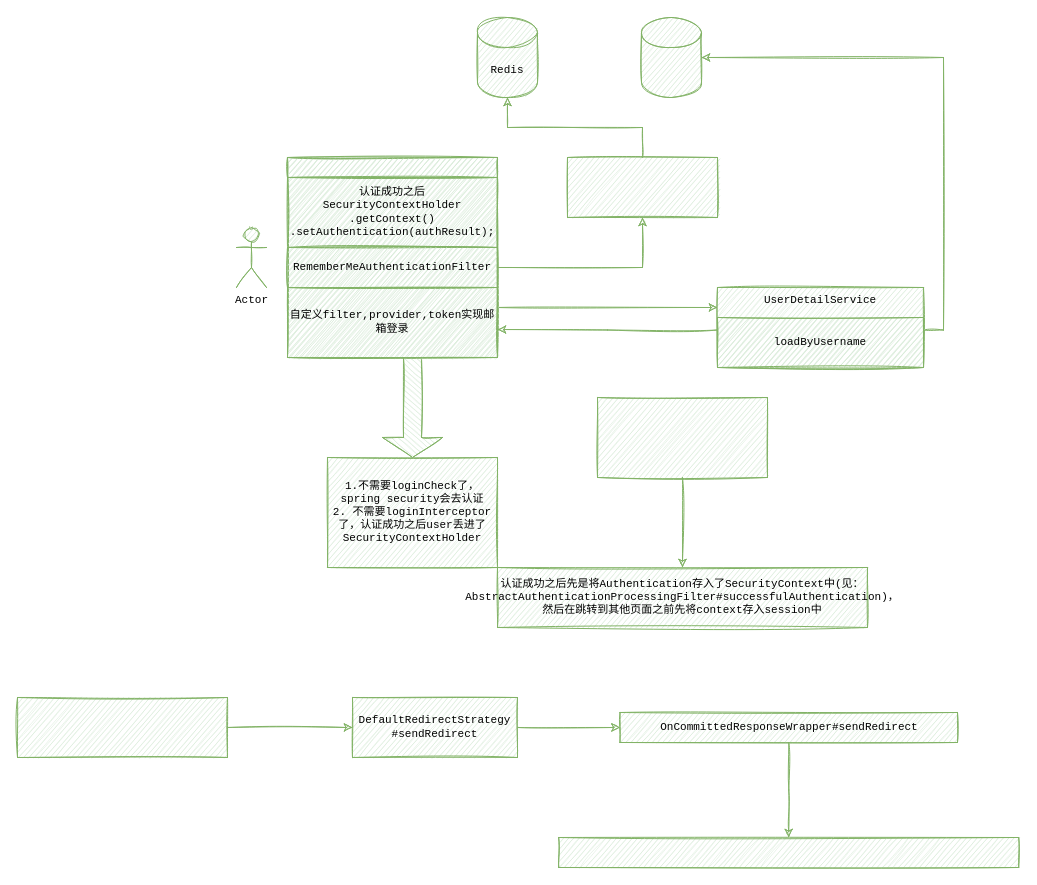
Some shapes in this 1037 by 885 pixel diagram are drawn without their labels. The centre of each missing label's shape, as x and y in pixels:
"Filter" goes at pixel 392 167.
"MyAuthenticationSucessHandler #onAuthenticationSuccess" goes at pixel 122 727.
"MySQL" goes at pixel 671 57.
"SaveContextOnUpdateOrErrorResponseWrapper#onResponseCommitted" goes at pixel 788 852.
"自定义tokenRepository将token存在redis上" goes at pixel 642 187.
"认证成功之后将Authentication存入了httpSession中，看看如何用spring session来将其替换存入redis" goes at pixel 682 437.
